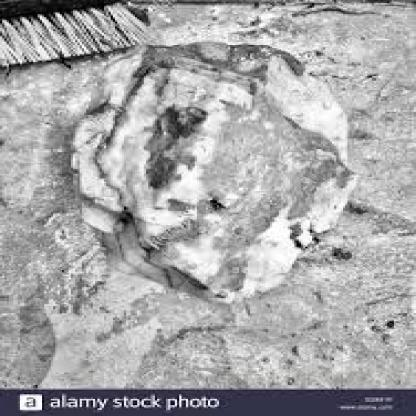Metamorphic_Marble: (62, 23, 356, 308)
